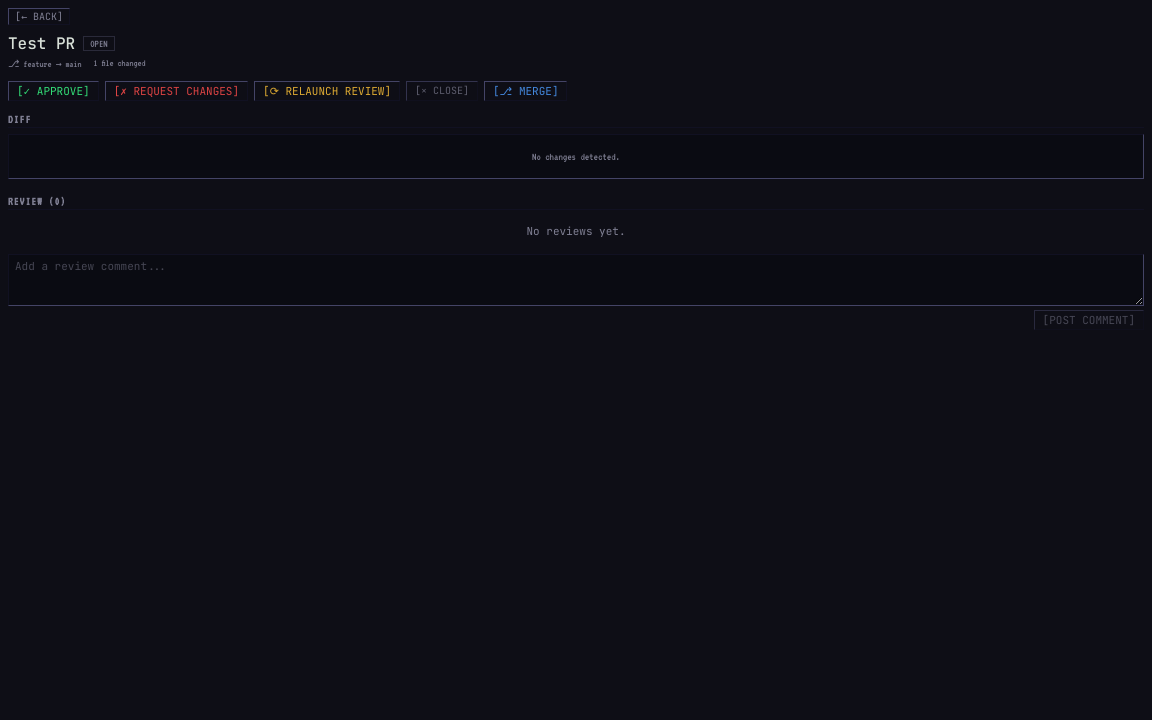
Test: PRDetail — Merge confirmation › shows confirmation dialog before merging
Step 1. Click the button "[⎇ MERGE]" → (526, 91), box [484,81,568,101]
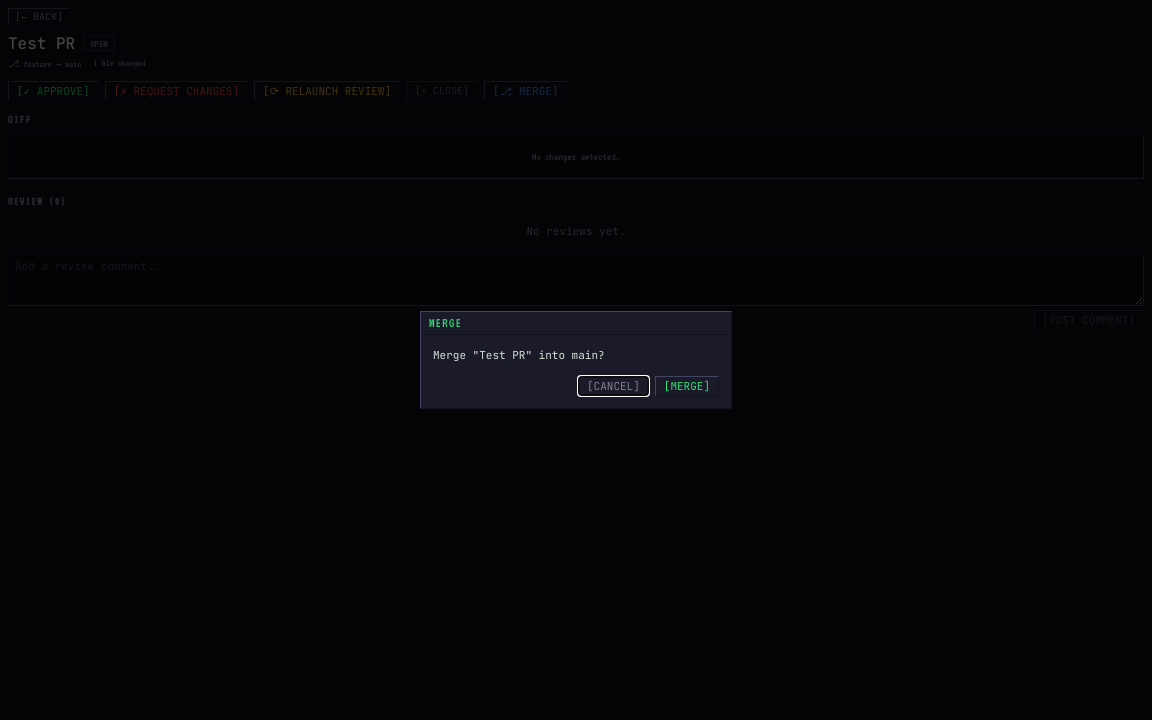
Expected: the dialog is shown, [420,311,732,409]
Expected: the text "Merge \"Test PR\" into main?" is shown, [433,348,605,362]
